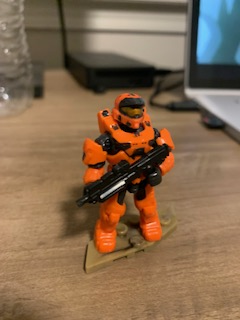rifle: (78, 144, 170, 207)
spartan: (78, 90, 178, 256)
